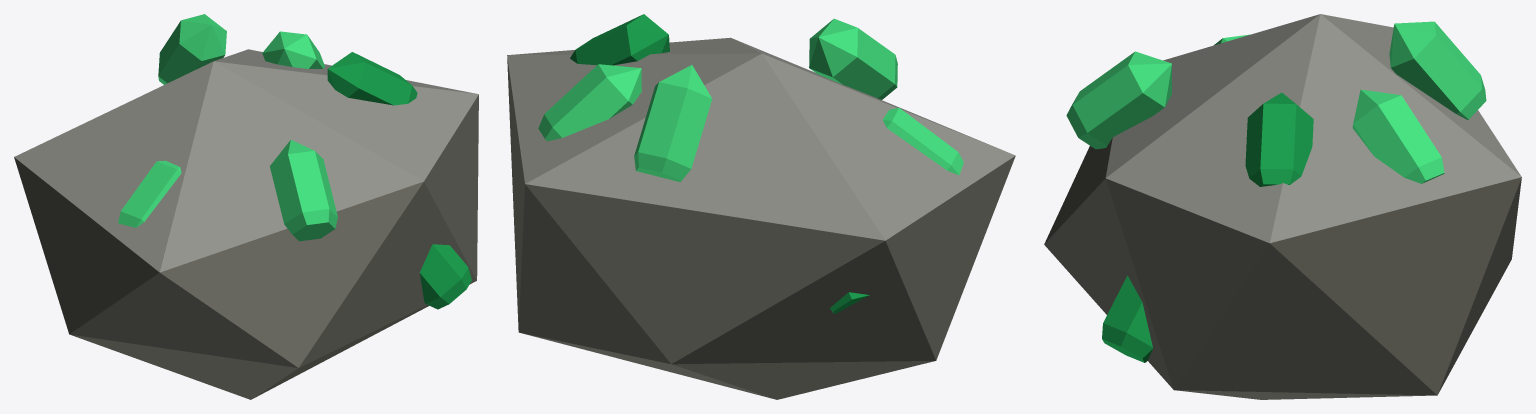
The model's file is EmeraldOre.fbx.
3 views of the same model, side by side, from view 1: azimuth 30°, elevation 25°; view 2: azimuth 150°, elevation 25°; view 3: azimuth 270°, elevation 25° (orthographic). The views are drawn at different scales.
Parts seen in each view (by area): view 1: EmeraldOre; view 2: EmeraldOre; view 3: EmeraldOre.
Part boxes in pixels (left/top/right/bottom): EmeraldOre: left=14, top=14, right=478, bottom=399; EmeraldOre: left=507, top=14, right=1015, bottom=399; EmeraldOre: left=1044, top=14, right=1521, bottom=399.
Bounding box in the file's own units: 3.58 × 2.84 × 3.18.
1 material, 1 textured.
